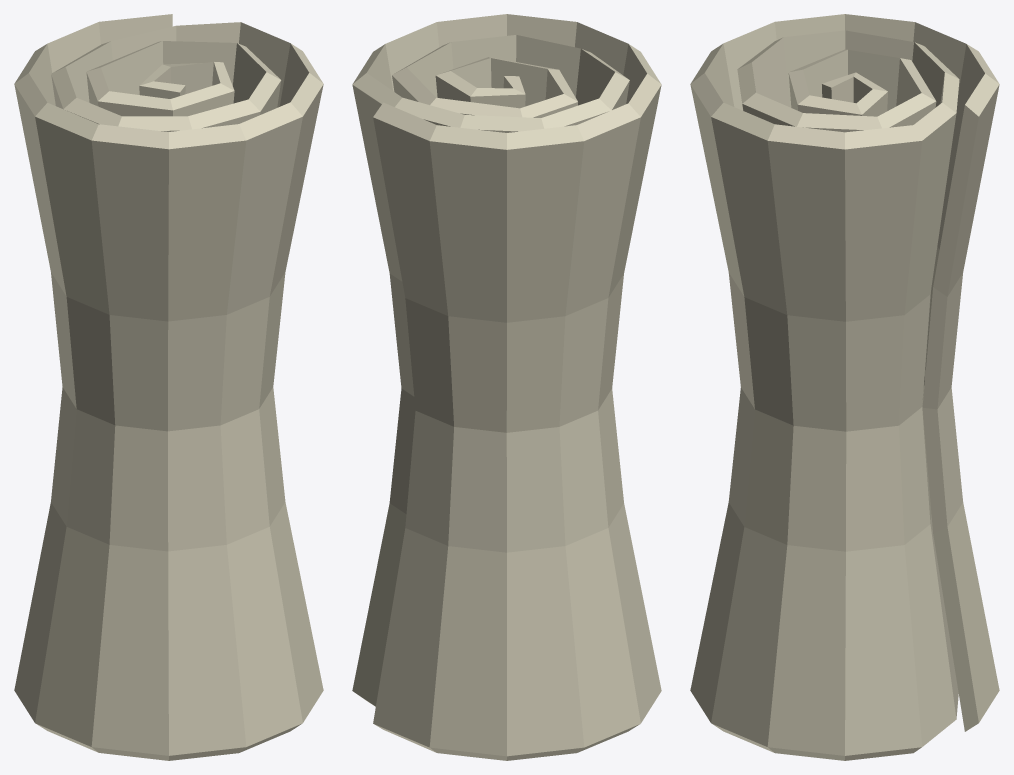
Rendered from Scroll.fbx.
3 views of the same model, side by side, from view 1: azimuth 30°, elevation 25°; view 2: azimuth 150°, elevation 25°; view 3: azimuth 270°, elevation 25° (orthographic).
Visible parts, largest first — view 1: Scroll; view 2: Scroll; view 3: Scroll.
Part boxes in pixels (bbox=[...]): Scroll: bbox=[14, 14, 323, 760]; Scroll: bbox=[352, 14, 661, 760]; Scroll: bbox=[690, 14, 999, 760].
Bounding box in the file's own units: 138 × 309 × 138.
